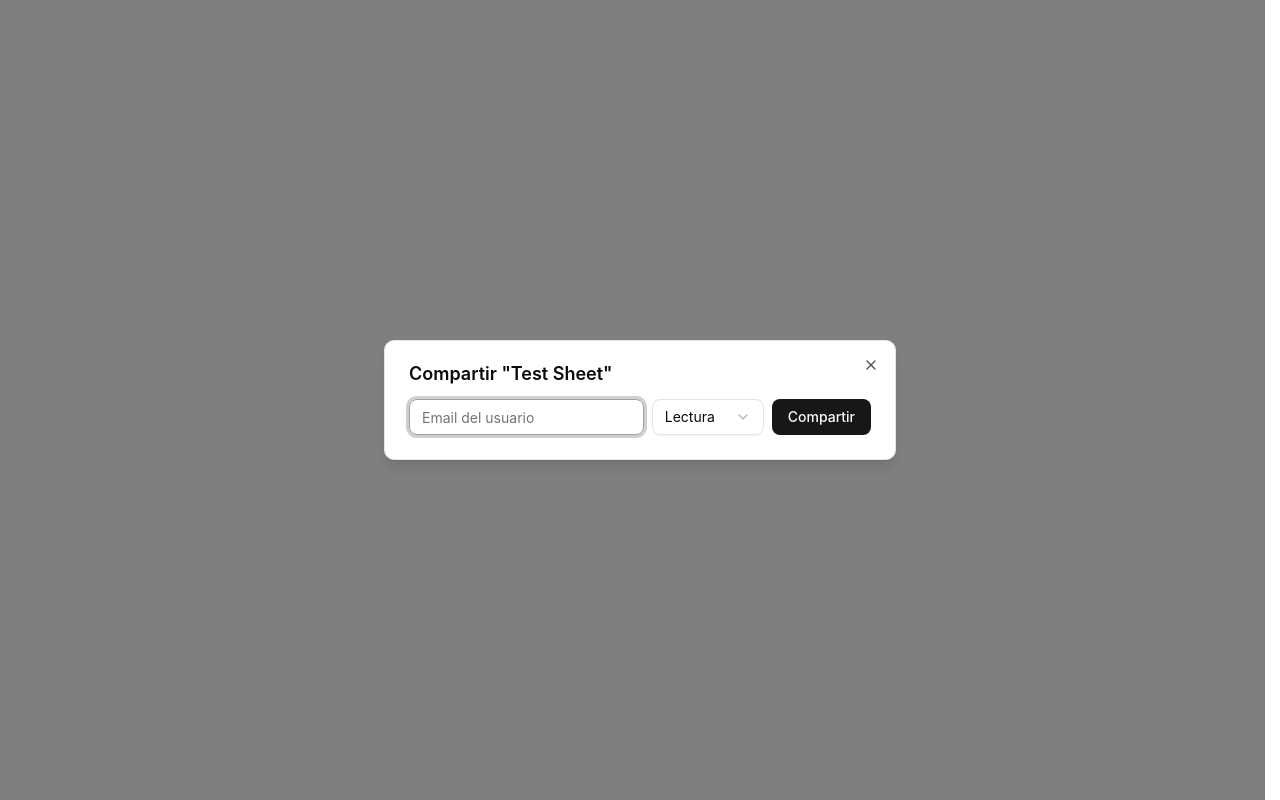
Test: SheetShareDialog › hides confirmation banner when user cancels
Type "new@example.com" into the field with placeholder "Email del usuario" at (526, 417), box top-left (409, 399), bottom-right (644, 435)
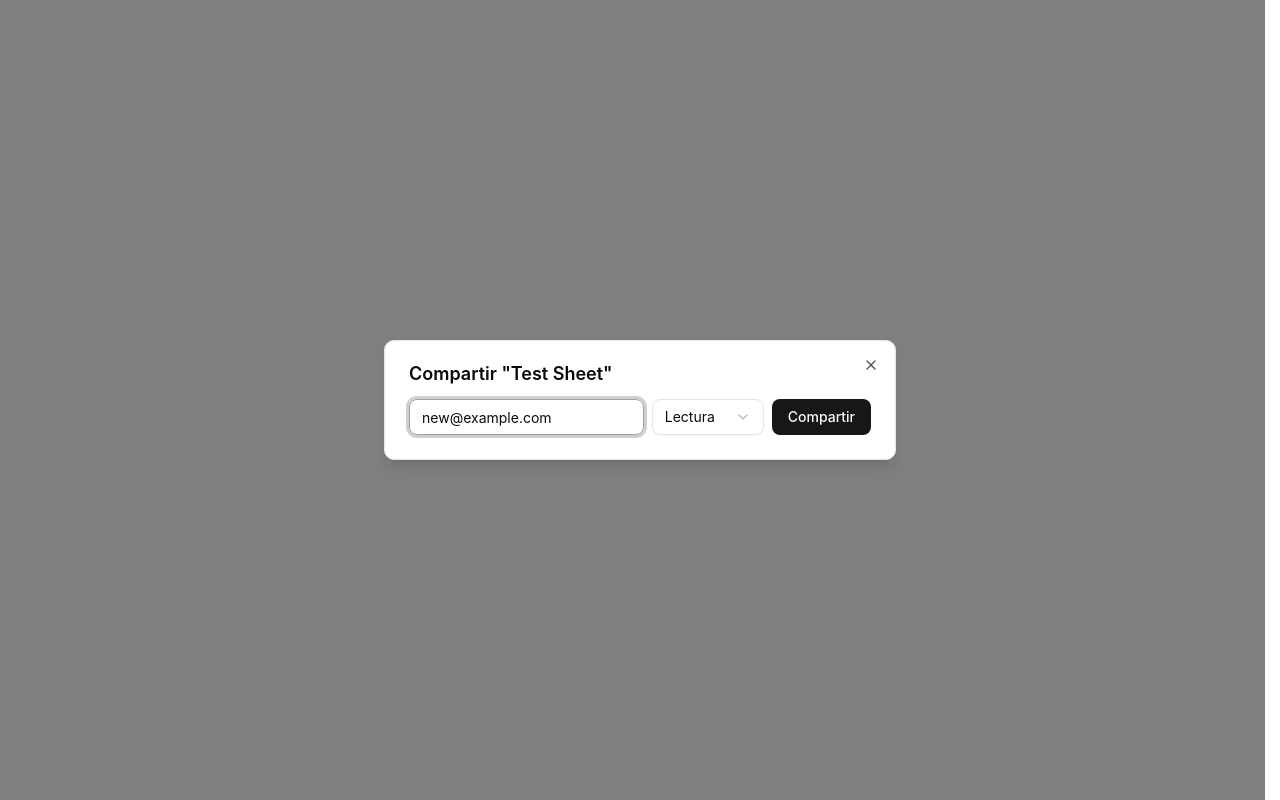
Click the button "Compartir" at (821, 417), box top-left (772, 399), bottom-right (871, 435)
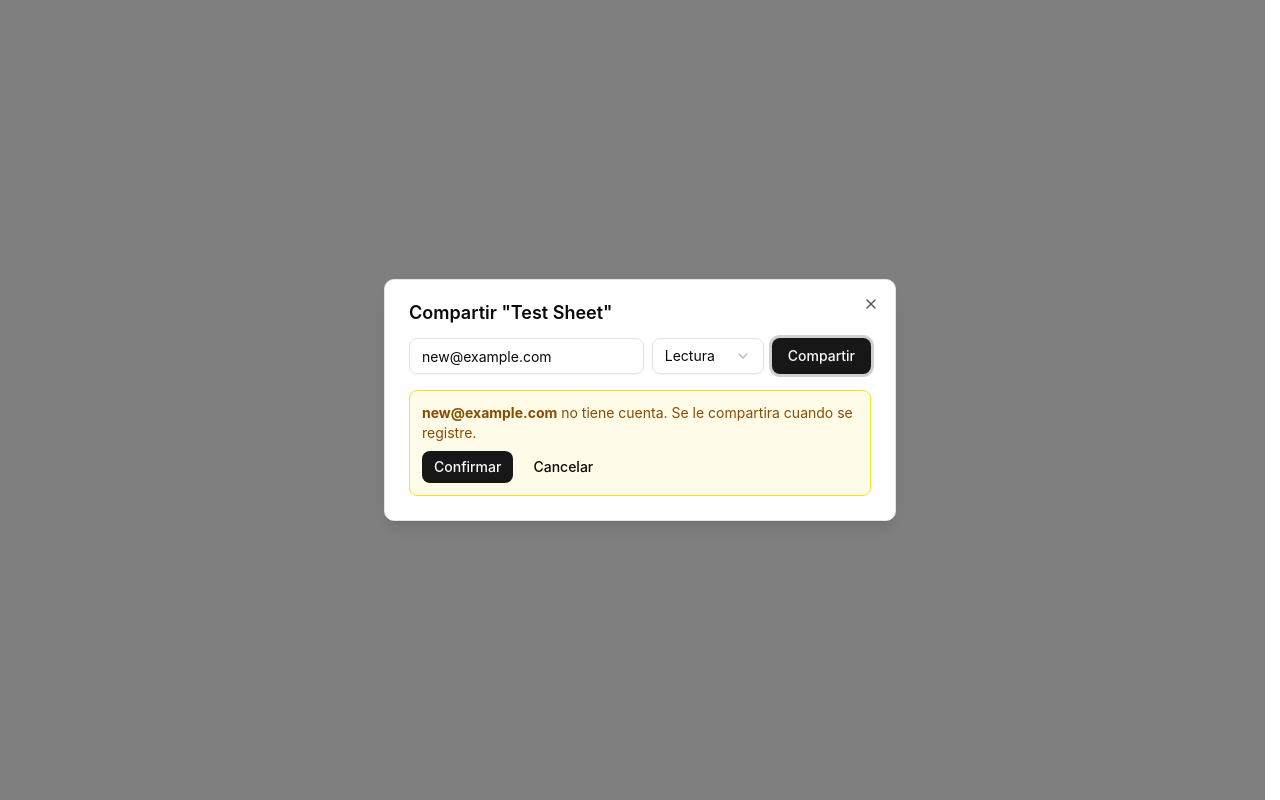
Expected: the text "no tiene cuenta" is shown, top-left (422, 404), bottom-right (853, 441)
Click the button "Cancelar" at (563, 467), box top-left (521, 451), bottom-right (605, 483)
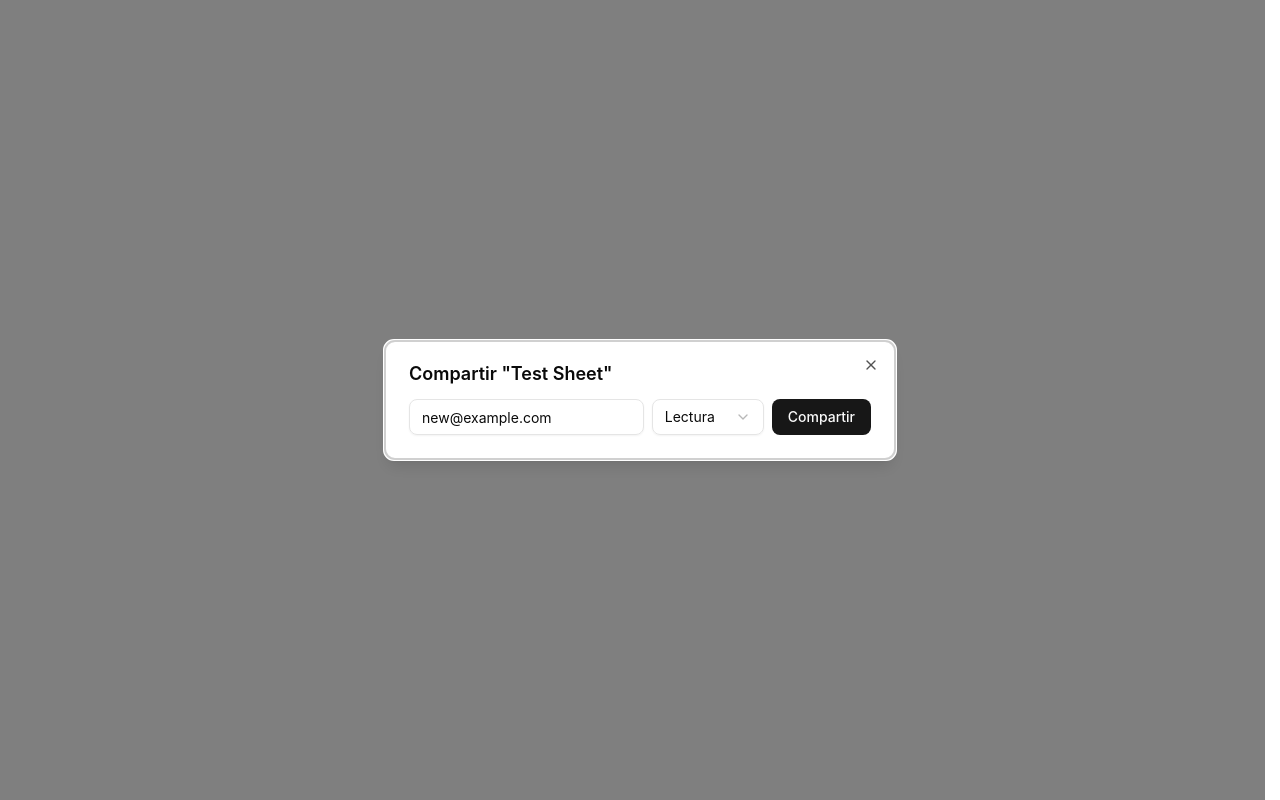
Expected: the text "no tiene cuenta" is gone
